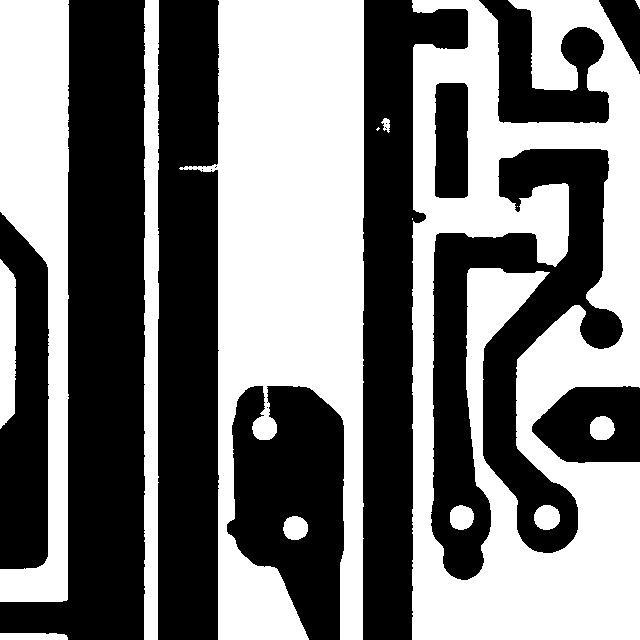mousebite: (169, 154, 231, 181)
open: (250, 374, 279, 430)
pin-hole: (366, 108, 399, 142)
short: (518, 250, 564, 281)
spur: (398, 199, 435, 232), (498, 184, 530, 221)
